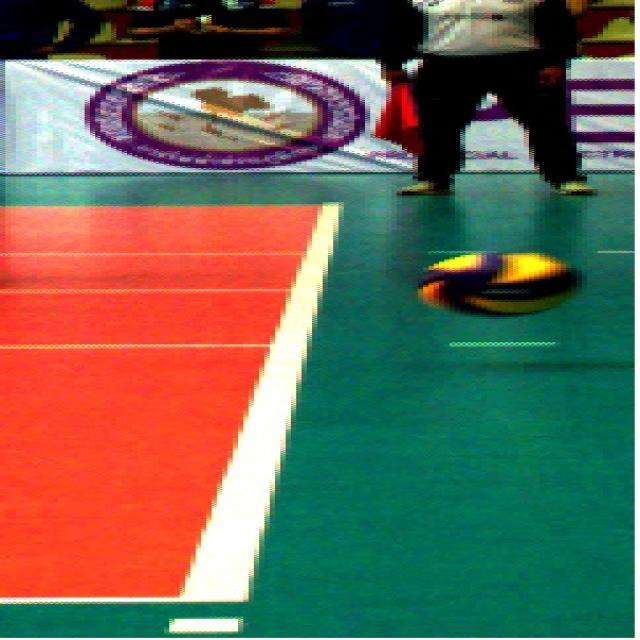Volleyball: (421, 250, 579, 319)
